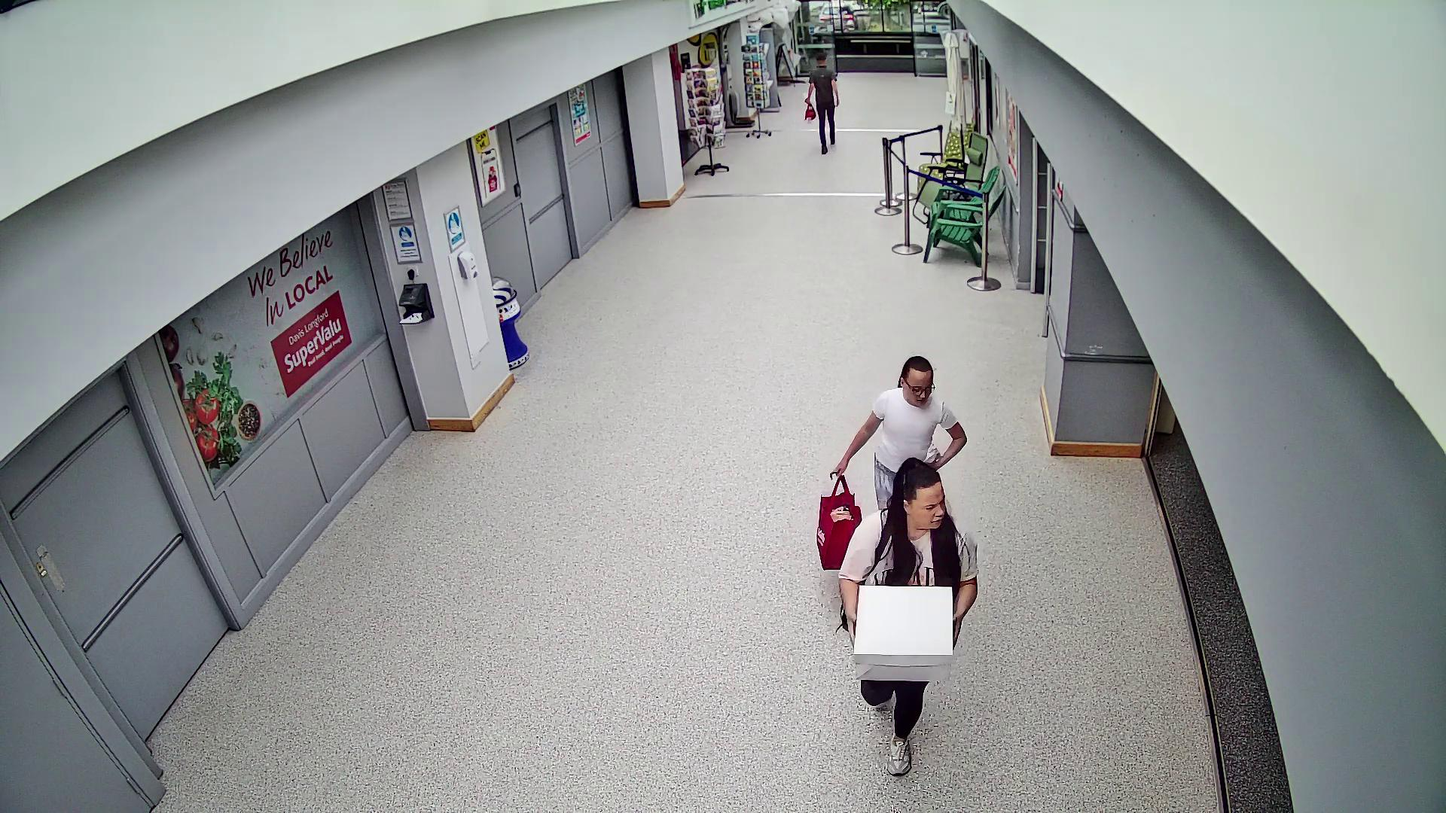carrying-item: (855, 583, 953, 684)
filled-shopping-bags: (815, 473, 861, 571), (805, 104, 816, 122)
person: (840, 460, 977, 779), (839, 355, 967, 506), (804, 52, 840, 154)
person-with-carrying-item: (842, 457, 979, 776)
person-with-filled-shopping-bag-s-: (817, 354, 968, 568), (804, 53, 840, 154)
